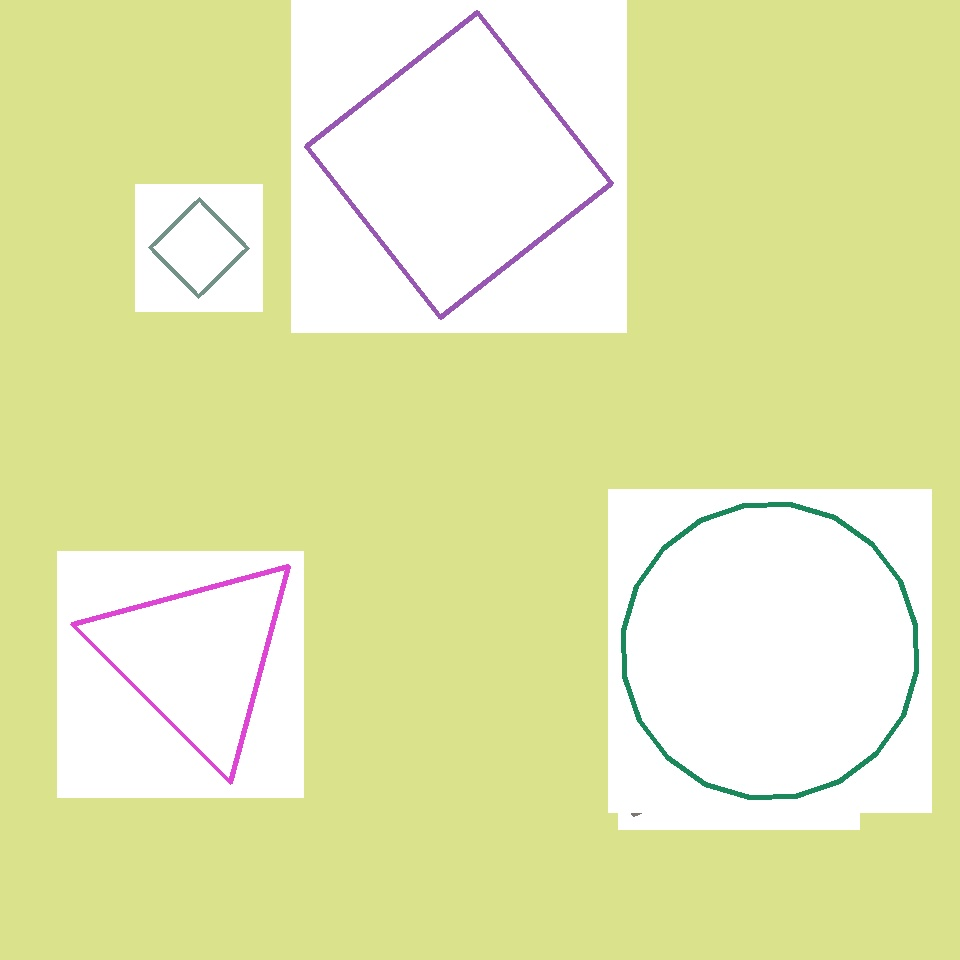circle: (501, 542, 743, 768), (608, 596, 818, 822), (89, 550, 305, 766), (340, 284, 556, 470)
square: (307, 13, 612, 317), (426, 186, 661, 420), (151, 200, 248, 297)
triangle: (152, 398, 486, 732), (624, 504, 916, 798)
